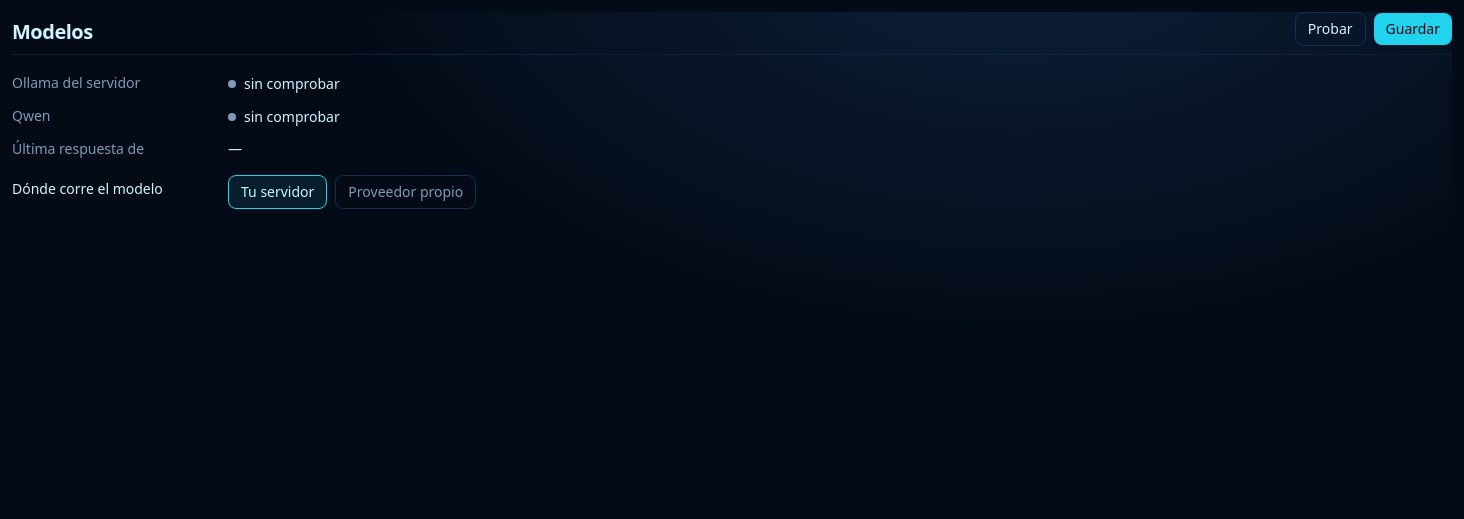
Test: Configuración → Modelos › por defecto usa el servidor; un proveedor propio guarda su clave sin mostrarla
This screenshot has width=1464, height=519.
expect the element named "Dónde corre el modelo" is shown: met, box x1=228 y1=175 x2=476 y2=209
expect the field labelled "URL" is not shown: met
Click the button "Probar" at (1330, 29), box x1=1295 y1=12 x2=1366 y2=46
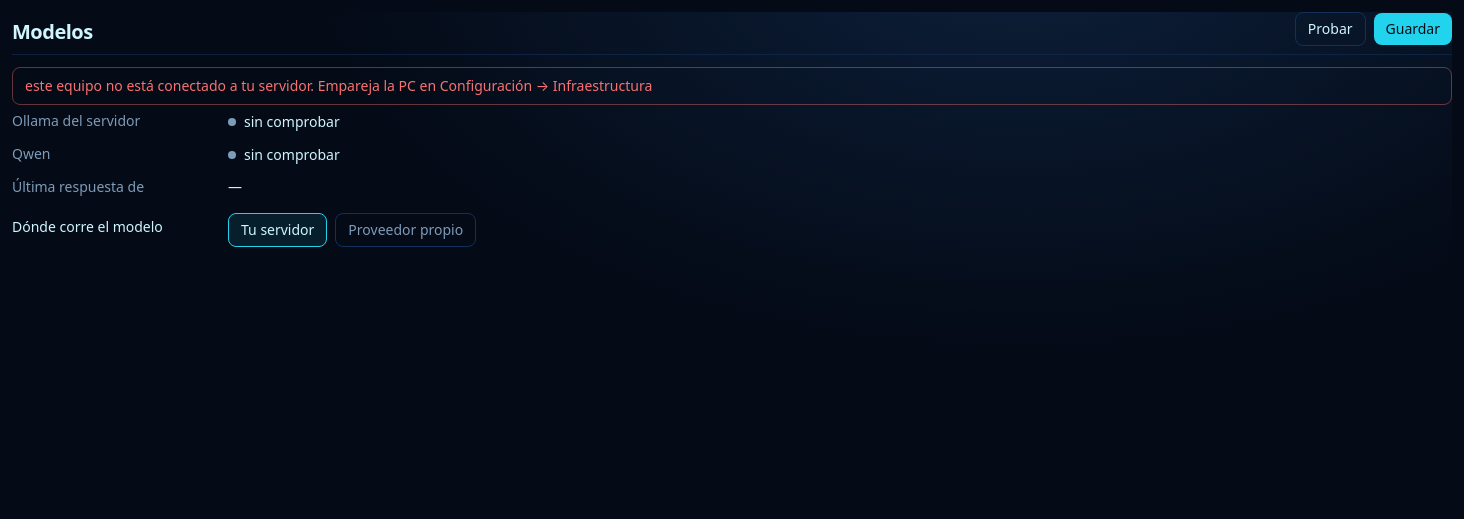
expect the text "Empareja la PC" is shown: met, box x1=25 y1=76 x2=652 y2=95
Click the radio button labelled "Proveedor propio" at (406, 230), box x1=335 y1=213 x2=476 y2=247
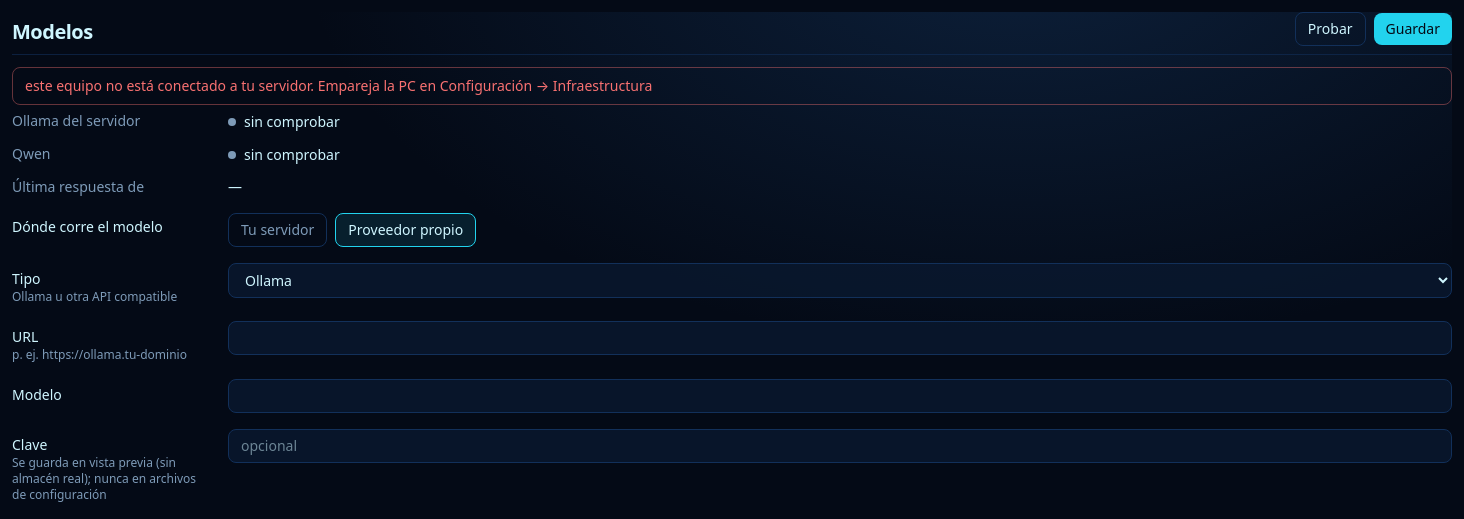
Click the button "Guardar" at (1413, 29), box x1=1374 y1=13 x2=1452 y2=45
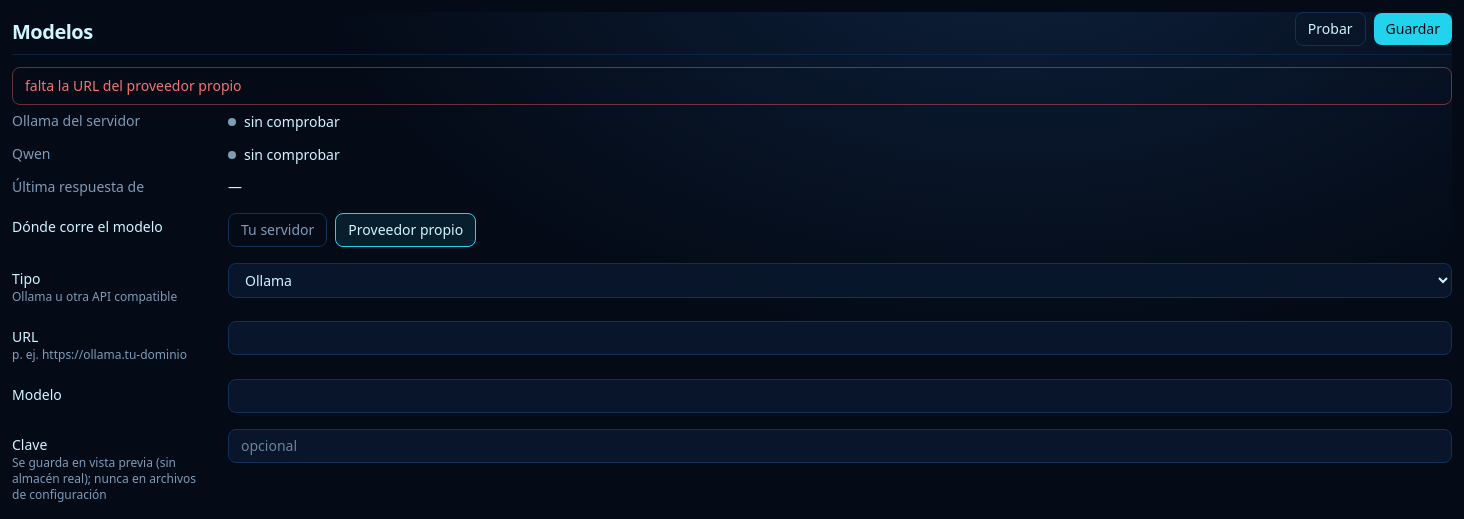
expect the text "falta la URL del proveedor propio" is shown: met, box x1=12 y1=67 x2=1452 y2=105
Type "https://ollama.example.test" into the field labelled "URL p. ej. https://ollama.tu-dominio" at (840, 338), box x1=228 y1=321 x2=1452 y2=355
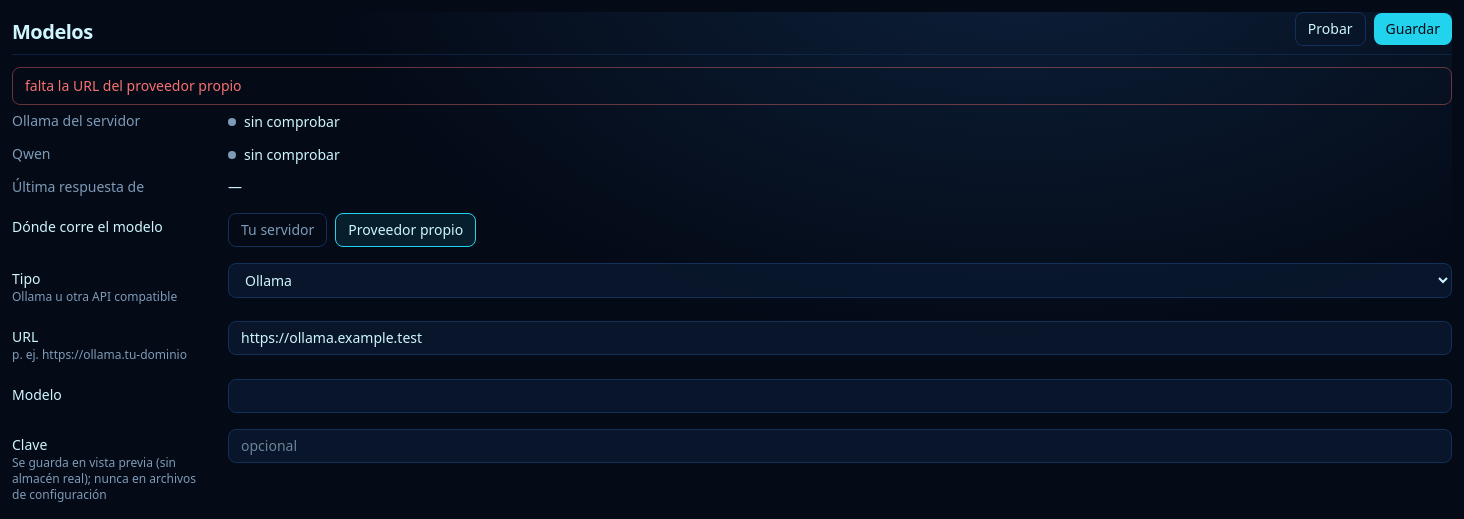
Type "sk-prueba" into the password field labelled "Clave" at (840, 446), box x1=228 y1=429 x2=1452 y2=463
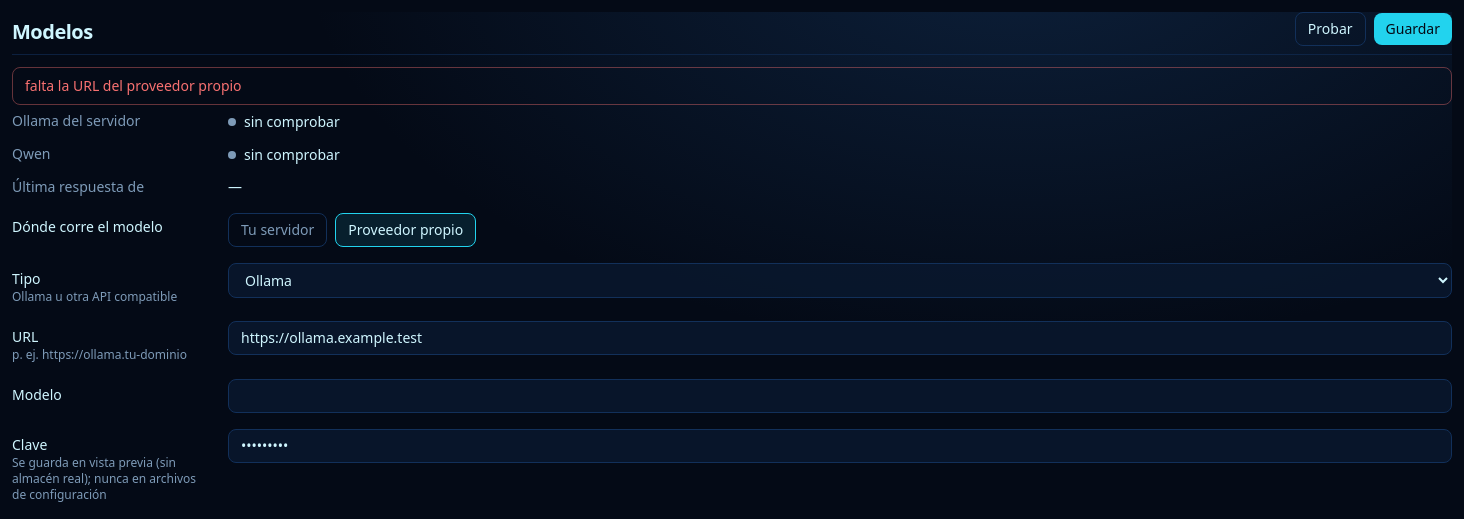
Click the button "Guardar" at (1413, 29), box x1=1374 y1=13 x2=1452 y2=45
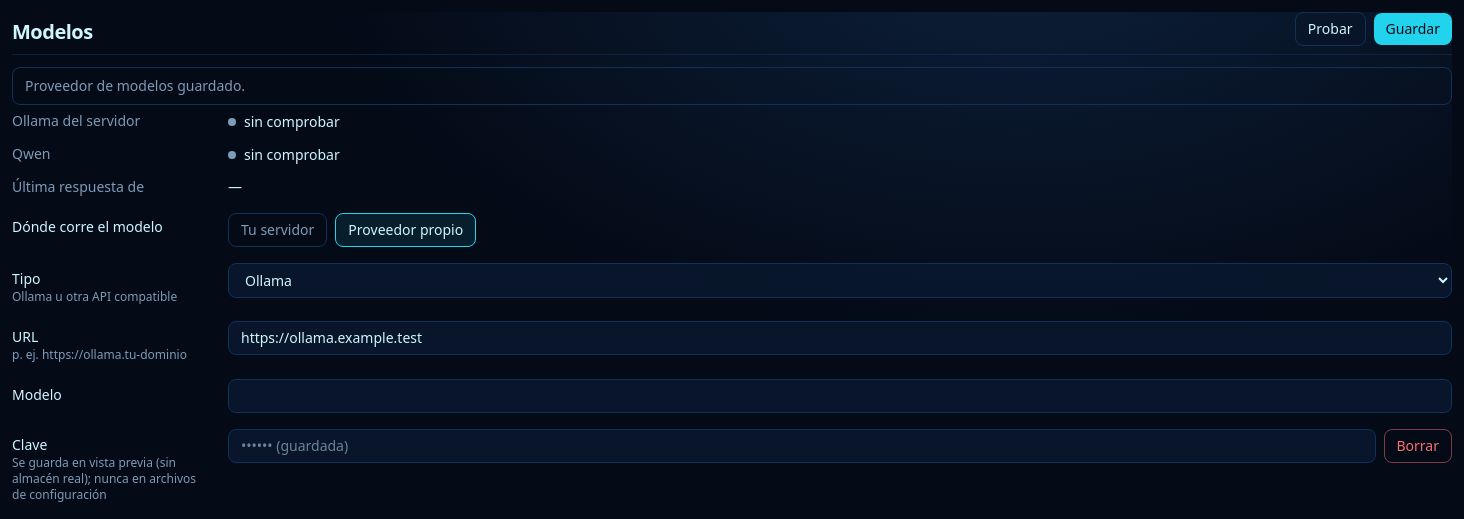
expect the text "Proveedor de modelos guardado." is shown: met, box x1=12 y1=67 x2=1452 y2=105
expect the password field labelled "Clave" is empty: met, box x1=228 y1=429 x2=1376 y2=463
